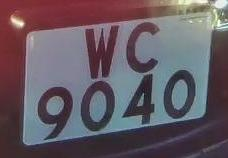0: (157, 64, 203, 125), (79, 79, 122, 136)
4: (117, 71, 165, 128)
9: (32, 80, 79, 142)
C: (119, 12, 171, 78)
W: (75, 17, 123, 86)
